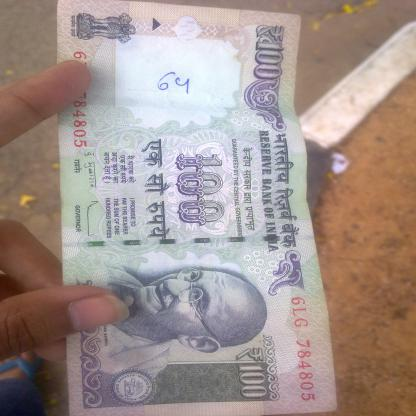Old100Front: (56, 0, 342, 415)
